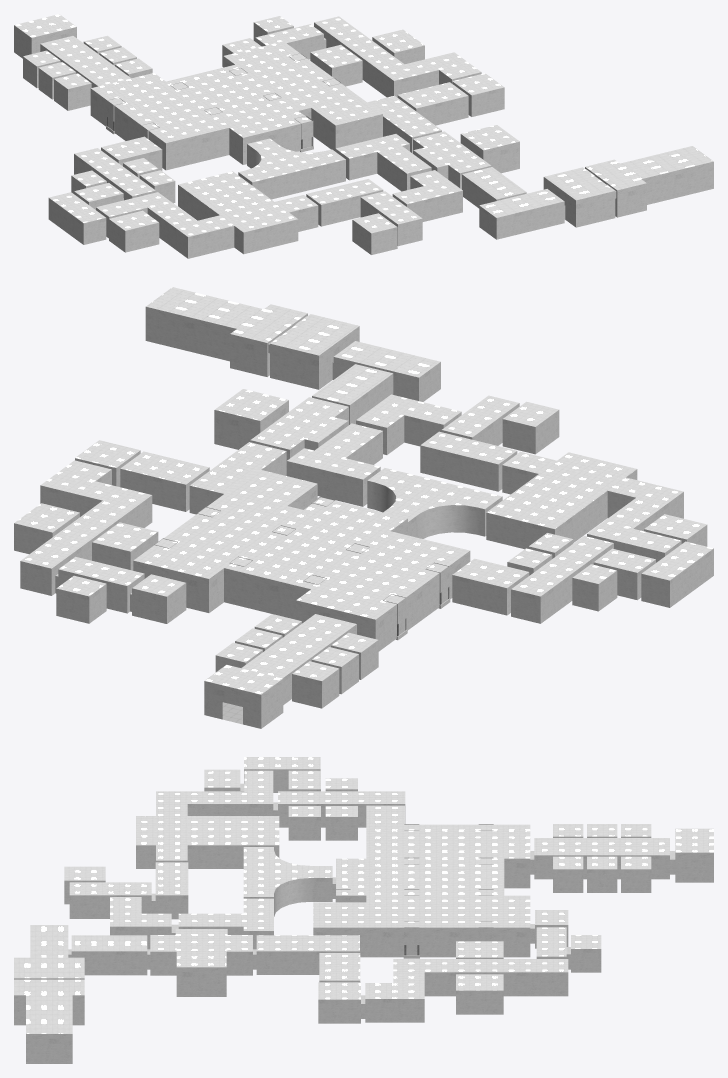
Rendered from giggle_farts_map.glb.
3 renders of one model, top to bottom at view 1: azimuth 30°, elevation 25°; view 2: azimuth 150°, elevation 25°; view 3: azimuth 270°, elevation 25°, orthographic. The views are drawn at different scales.
Visible parts, largest first — view 1: Map_Giggle; view 2: Map_Giggle; view 3: Map_Giggle.
Part boxes in pixels (x1,y1,x2,y2): Map_Giggle: (14, 14, 713, 258); Map_Giggle: (14, 287, 713, 728); Map_Giggle: (14, 757, 713, 1063).
Size of the model in its own units: 114 by 5.88 by 119.
Materials: 4 (4 with a texture image).
